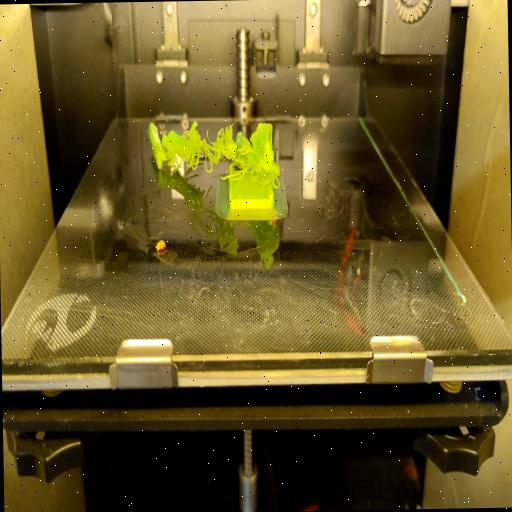spaghetti: (164, 114, 282, 187)
